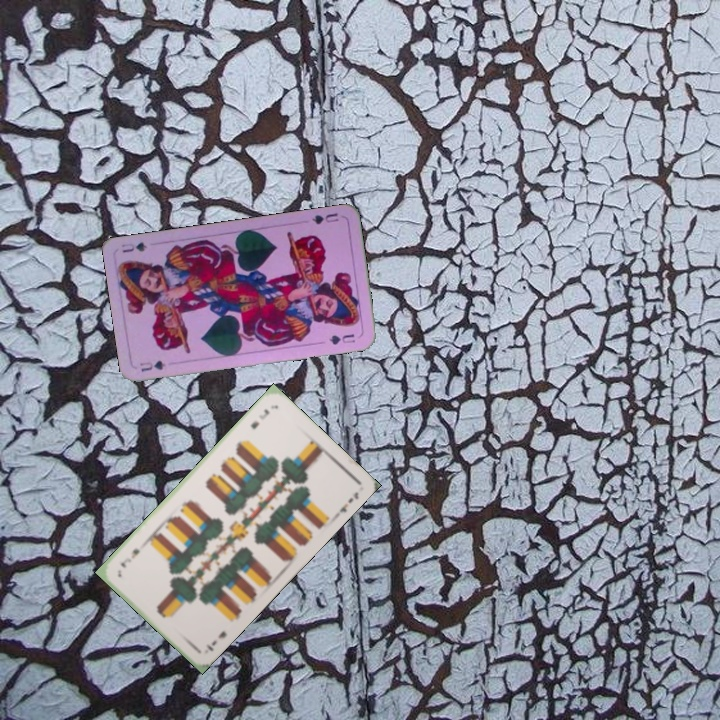E7: (202, 627, 229, 654), (246, 405, 272, 432)
GU: (308, 209, 341, 227), (136, 356, 168, 374)
